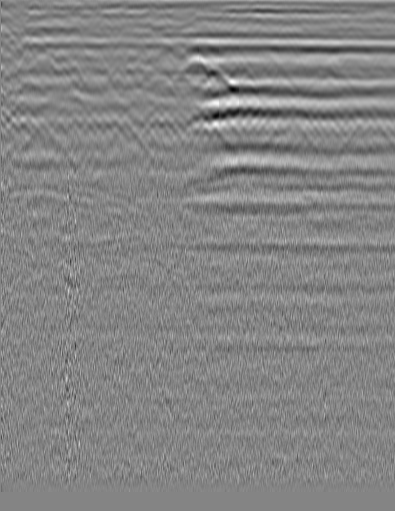우수: (174, 91, 394, 137)
